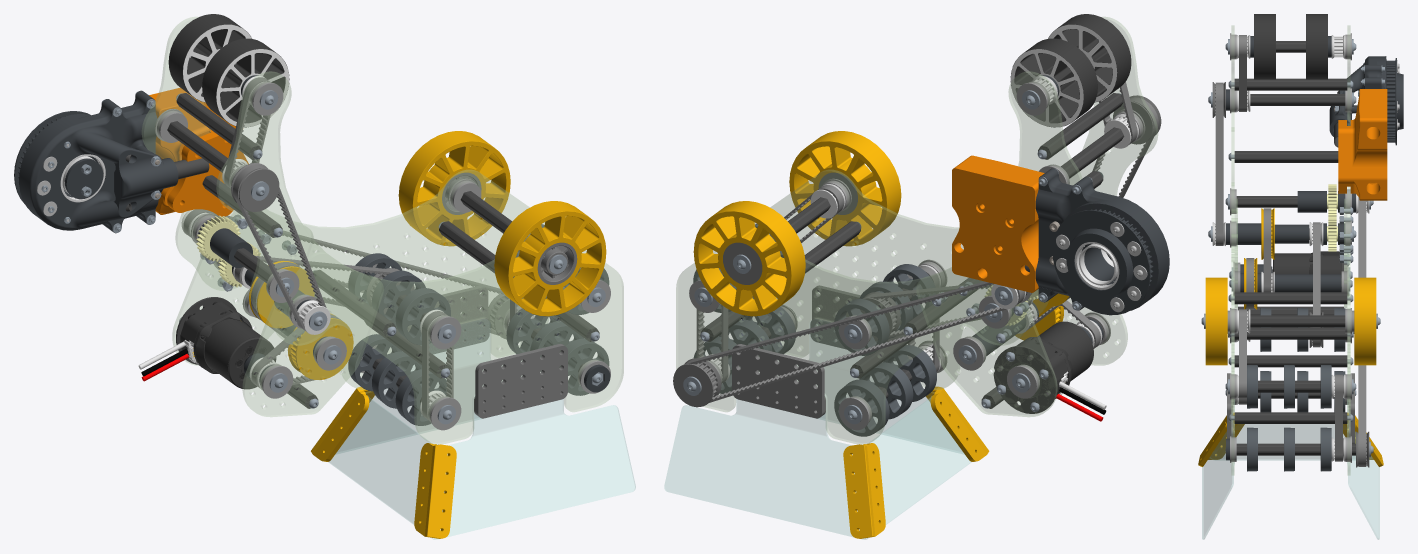
3 renders of one model, left to right at view 1: azimuth 30°, elevation 25°; view 2: azimuth 150°, elevation 25°; view 3: azimuth 270°, elevation 25°, orthographic. The views are drawn at different scales.
Visible parts, largest first — view 1: VaquitaPlate (×2), FunnelR, 4IN Compliant Wheel FINAL Overmold (×2), VaquitaPlateM (×2), NF24-ARM-CP08, 2" OD 1/2" Hex Bore Compliant Wheel 40A (am-3462) (×9), am-3946 3IN 500Hex Molded Compliant Wheel VER 2 (×2), FunnelBack, 2025-IN-HEX-S-130 (×5), FunnelHolderR, FunnelL, TheFixerL (+18 smaller); view 2: VaquitaPlate (×2), FunnelL, 4IN Compliant Wheel FINAL Overmold (×2), NF24-ARM-CP08, VaquitaPlateM (×2), TheFixerL, 2" OD 1/2" Hex Bore Compliant Wheel 40A (am-3462) (×8), am-3946 3IN 500Hex Molded Compliant Wheel VER 2 (×2), FunnelBack, FunnelHolderL, 2025-IN-HEX-S-130 (×4), FunnelR (+18 smaller); view 3: 2025-IN-HEX-S-130 (×6), TheFixerL, 2" OD 1/2" Hex Bore Compliant Wheel 40A (am-3462) (×11), 4IN Compliant Wheel FINAL Overmold (×2), am-3946 3IN 500Hex Molded Compliant Wheel VER 2 (×2), 2025-IN-HEX-S-161 (×3), VaquitaPlate (×2), NF24-ARM-CP08, 82T HTD Belt (×2), 48T HTD Belt (×3), FunnelR, FunnelBack (+20 smaller).
Boxes of the visible parts, x1,y1,x2,y2 form: VaquitaPlate (×2): (142, 17, 623, 444); FunnelR: (432, 395, 635, 539); 4IN Compliant Wheel FINAL Overmold (×2): (398, 131, 606, 316); VaquitaPlateM (×2): (172, 209, 383, 416); NF24-ARM-CP08: (14, 90, 178, 233); 2" OD 1/2" Hex Bore Compliant Wheel 40A (am-3462) (×9): (348, 253, 609, 425); am-3946 3IN 500Hex Molded Compliant Wheel VER 2 (×2): (168, 14, 289, 127); FunnelBack: (328, 397, 431, 524); 2025-IN-HEX-S-130 (×5): (176, 93, 514, 378); FunnelHolderR: (474, 344, 567, 418); FunnelL: (336, 319, 521, 453); TheFixerL: (149, 88, 248, 216); VaquitaPlate (×2): (676, 17, 1157, 444); FunnelL: (664, 395, 867, 539); 4IN Compliant Wheel FINAL Overmold (×2): (693, 131, 901, 316); NF24-ARM-CP08: (1035, 168, 1169, 315); VaquitaPlateM (×2): (916, 267, 1127, 416); TheFixerL: (952, 155, 1044, 292); 2" OD 1/2" Hex Bore Compliant Wheel 40A (am-3462) (×8): (718, 264, 936, 436); am-3946 3IN 500Hex Molded Compliant Wheel VER 2 (×2): (1010, 14, 1131, 127); FunnelBack: (869, 397, 971, 524); FunnelHolderL: (732, 344, 825, 418); 2025-IN-HEX-S-130 (×4): (785, 93, 1122, 378); FunnelR: (778, 319, 964, 454); 2025-IN-HEX-S-130 (×6): (1234, 78, 1347, 423); TheFixerL: (1338, 89, 1387, 200); 2" OD 1/2" Hex Bore Compliant Wheel 40A (am-3462) (×11): (1247, 308, 1345, 471); 4IN Compliant Wheel FINAL Overmold (×2): (1205, 277, 1376, 365); am-3946 3IN 500Hex Molded Compliant Wheel VER 2 (×2): (1254, 14, 1327, 79); 2025-IN-HEX-S-161 (×3): (1236, 94, 1355, 455); VaquitaPlate (×2): (1231, 25, 1350, 475); NF24-ARM-CP08: (1329, 56, 1403, 145); 82T HTD Belt (×2): (1215, 82, 1320, 347); 48T HTD Belt (×3): (1239, 35, 1342, 461); FunnelR: (1202, 401, 1234, 539); FunnelBack: (1210, 424, 1371, 460).
Bounding box in the file's own units: 0.5235 × 0.4981 × 0.2372.
